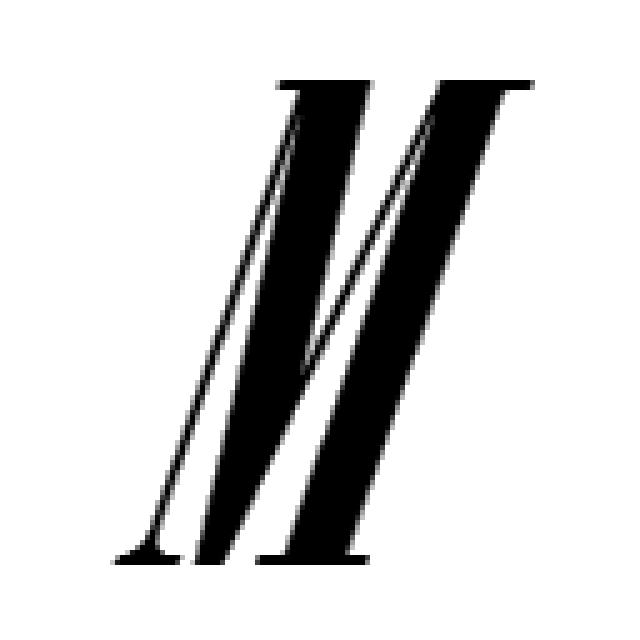M: (116, 80, 506, 570)
